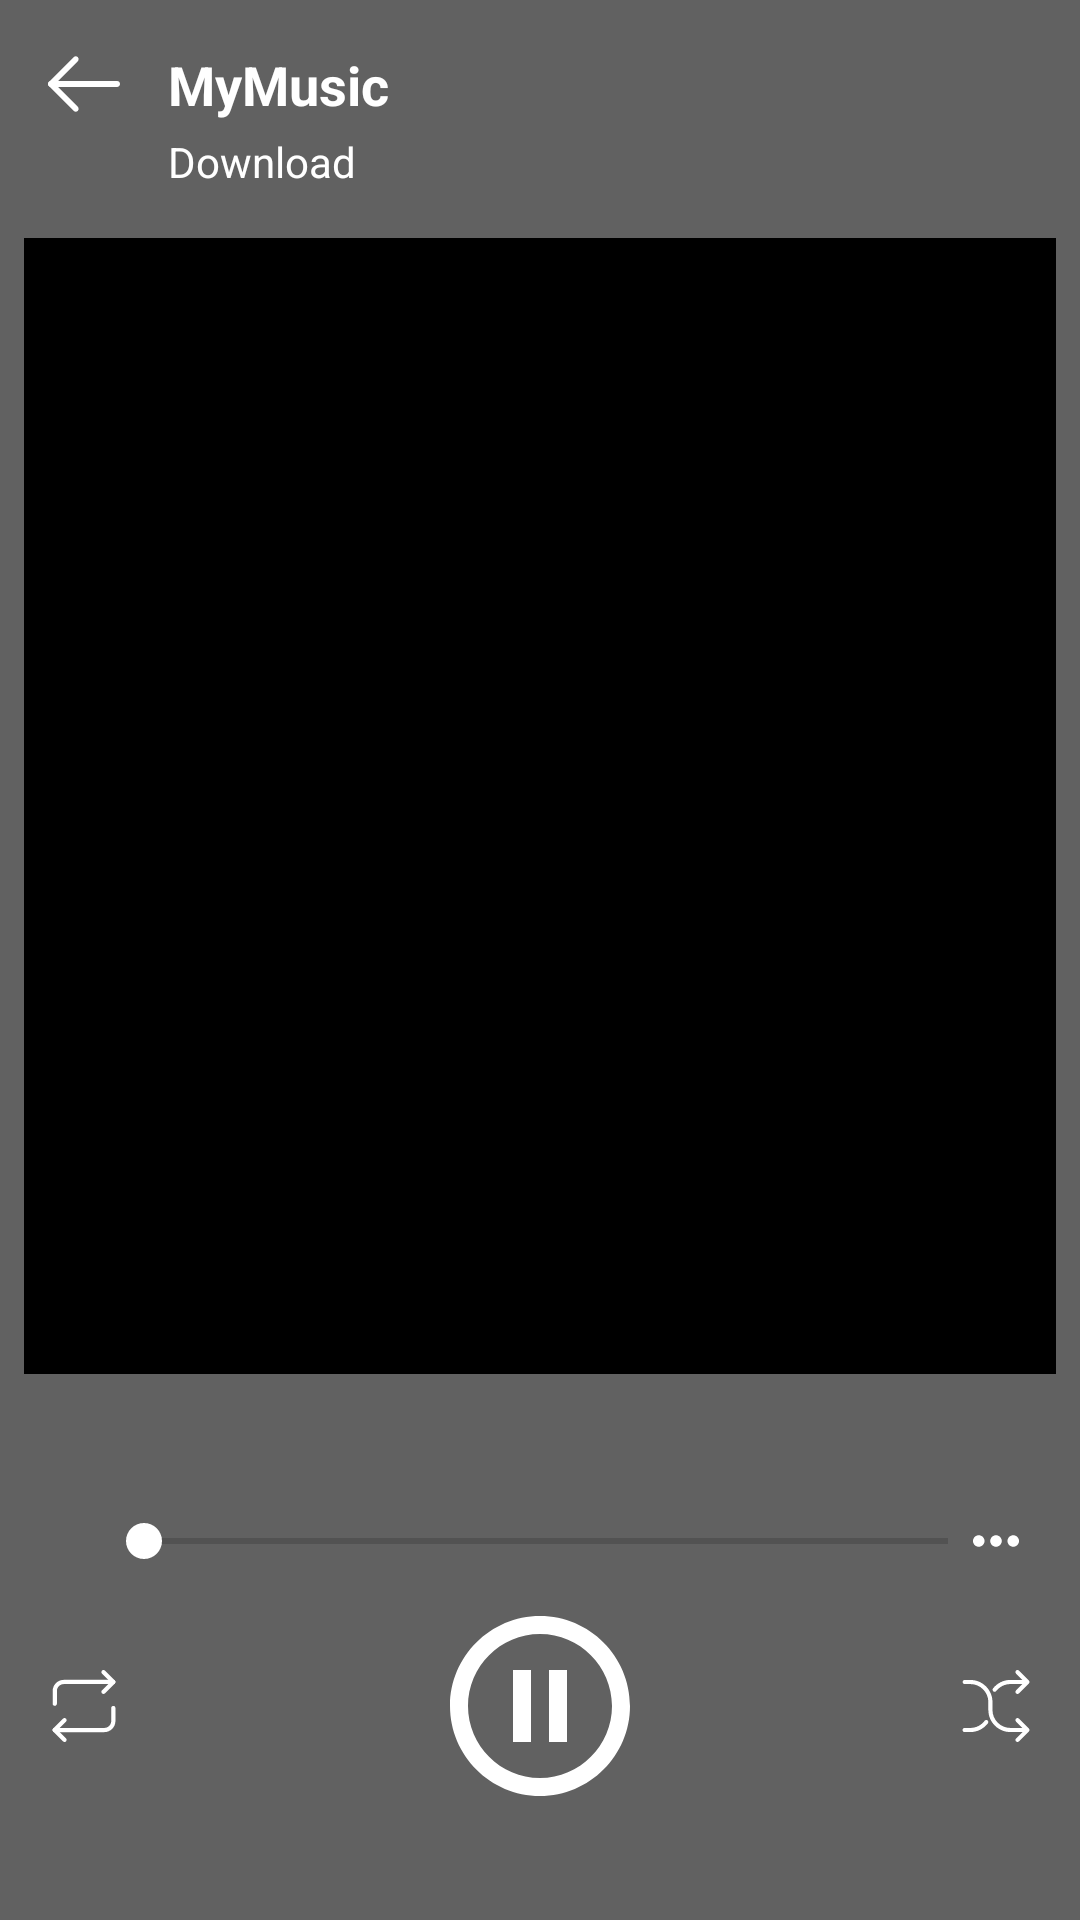

Screen size 1080w x 1920h. Icon name, then its center in pixels as [x,y]:
back: [84,84]
more: [996,1541]
pause: [540,1706]
repeat: [84,1706]
shuffle: [996,1706]
